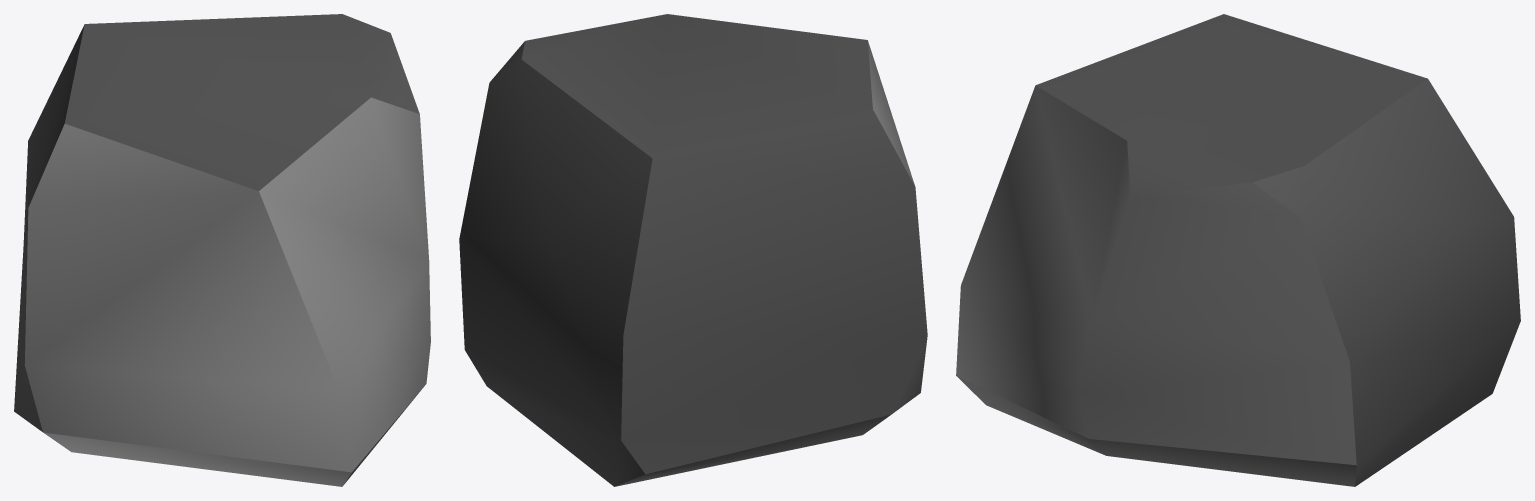
The model's file is rock_03.fbx.
3 renders of one model, left to right at view 1: azimuth 30°, elevation 25°; view 2: azimuth 150°, elevation 25°; view 3: azimuth 270°, elevation 25°, orthographic.
Parts seen in each view (by area): view 1: rock_03; view 2: rock_03; view 3: rock_03.
Boxes of the visible parts, x1=… form: rock_03: x1=14, y1=14, x2=430, y2=486; rock_03: x1=459, y1=14, x2=927, y2=486; rock_03: x1=956, y1=14, x2=1520, y2=486.
Bounding box in the file's own units: 33.47 × 25.86 × 40.39.
